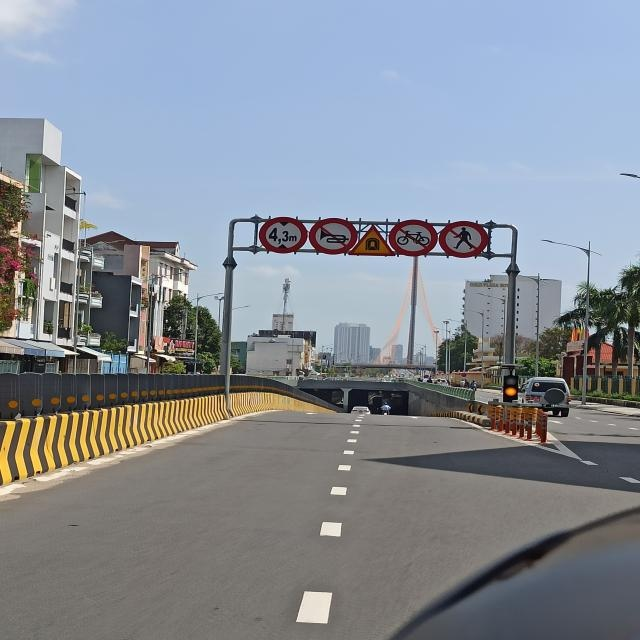bien_hieu_lenh: (390, 220, 439, 258), (439, 220, 488, 258), (309, 218, 357, 255), (260, 217, 306, 254), (349, 224, 395, 257)
